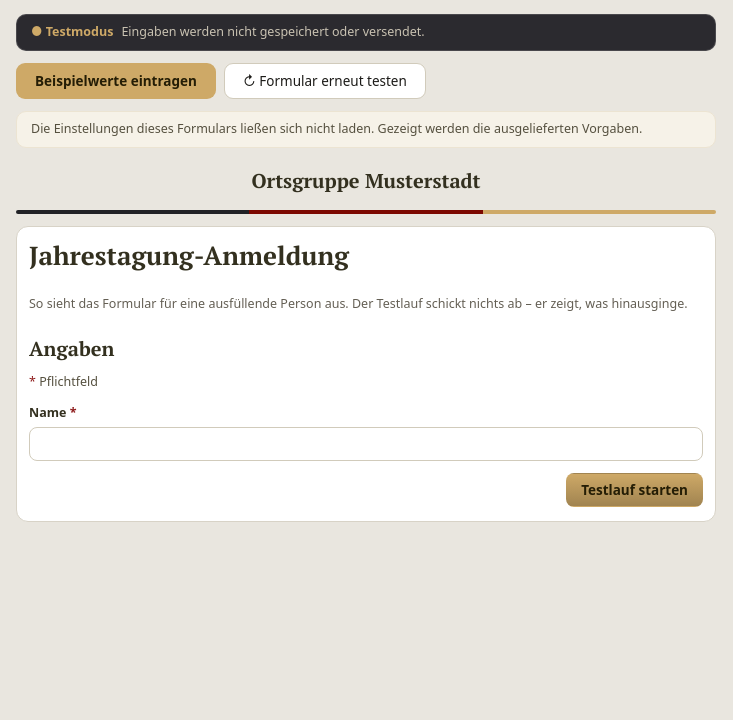
PreviewView — der Testlauf verschickt nichts › ruft für den Testlauf keine einzige weitere Route
Check: the field labelled "Name *" is shown, box left=29, top=427, right=703, bottom=461
Click the button "Beispielwerte eintragen": [116, 81] box left=16, top=63, right=216, bottom=99
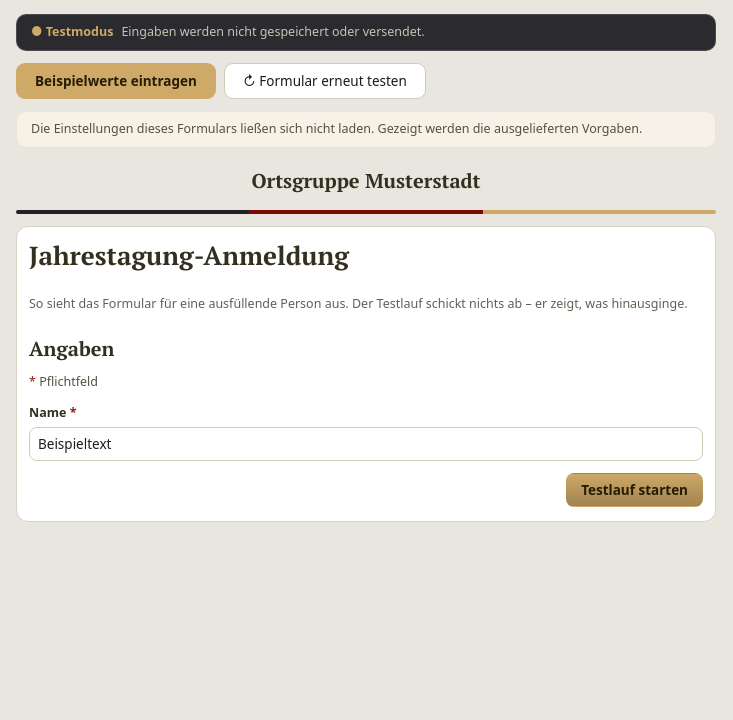
Check: the field showing "Beispieltext" is shown, box left=29, top=427, right=703, bottom=461
Click the button "Testlauf starten": [635, 490] box left=566, top=473, right=703, bottom=507
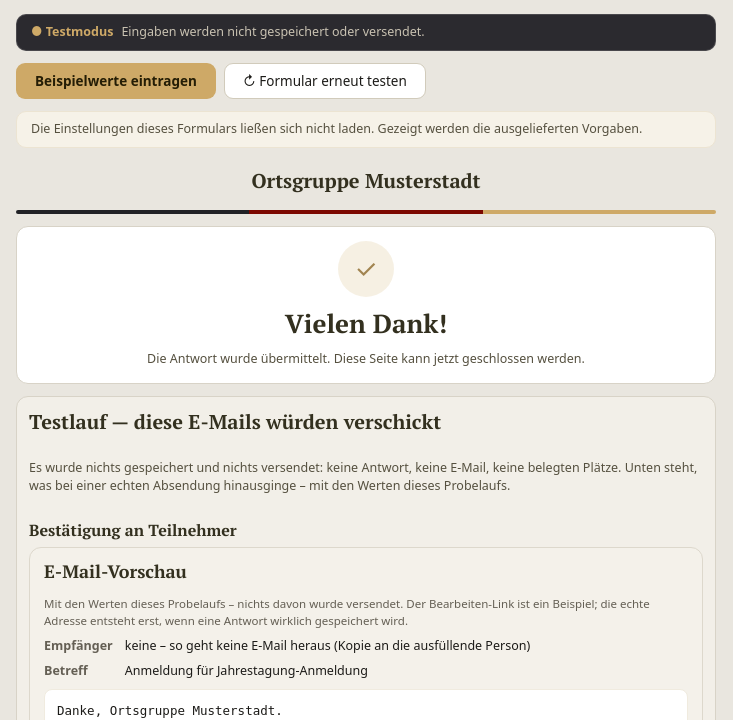
Check: the message with test id "run-nothing" is shown, box left=29, top=459, right=703, bottom=496
